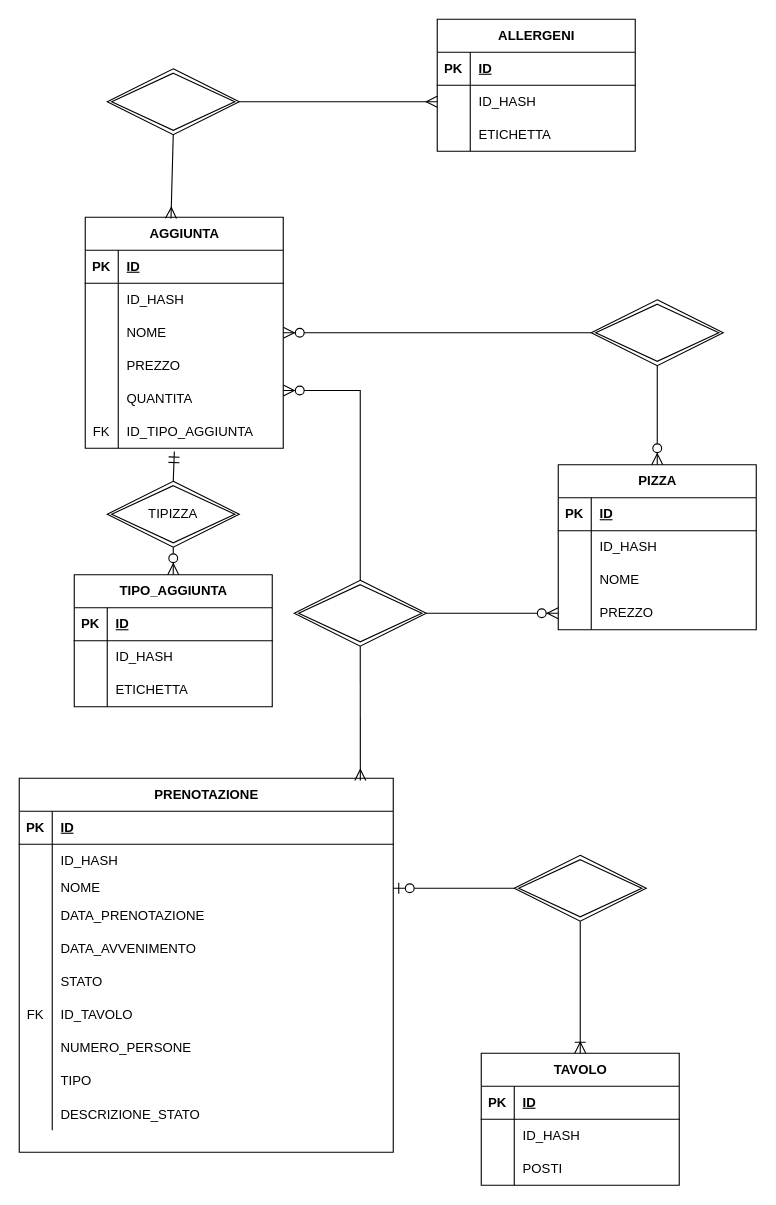
Some shapes in this 776 by 1205 pixel diagram are drawn without their labels. The shapes that lost their labels are listed below. From the top down, each one's centre as x and y in pixels, then its label:
At pixel 172 101: "CAUSA".
At pixel 656 332: "CONTIENE".
At pixel 359 612: "ORDINA".
At pixel 579 887: "OCCUPA".
